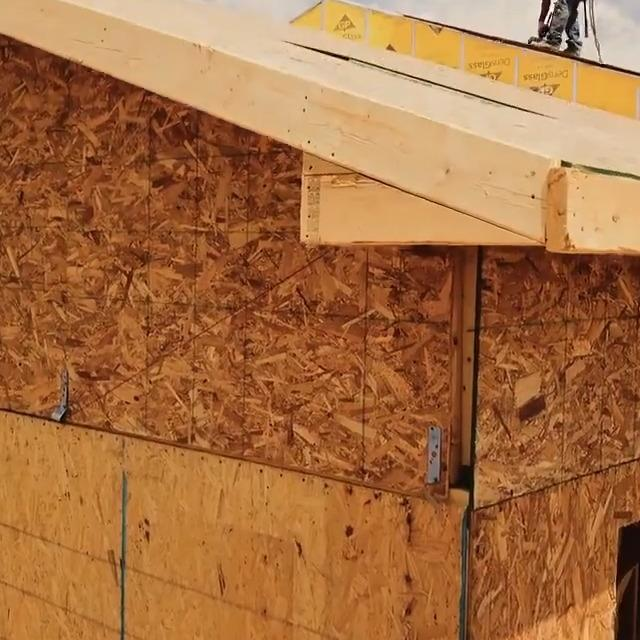Person: (520, 0, 597, 56)
